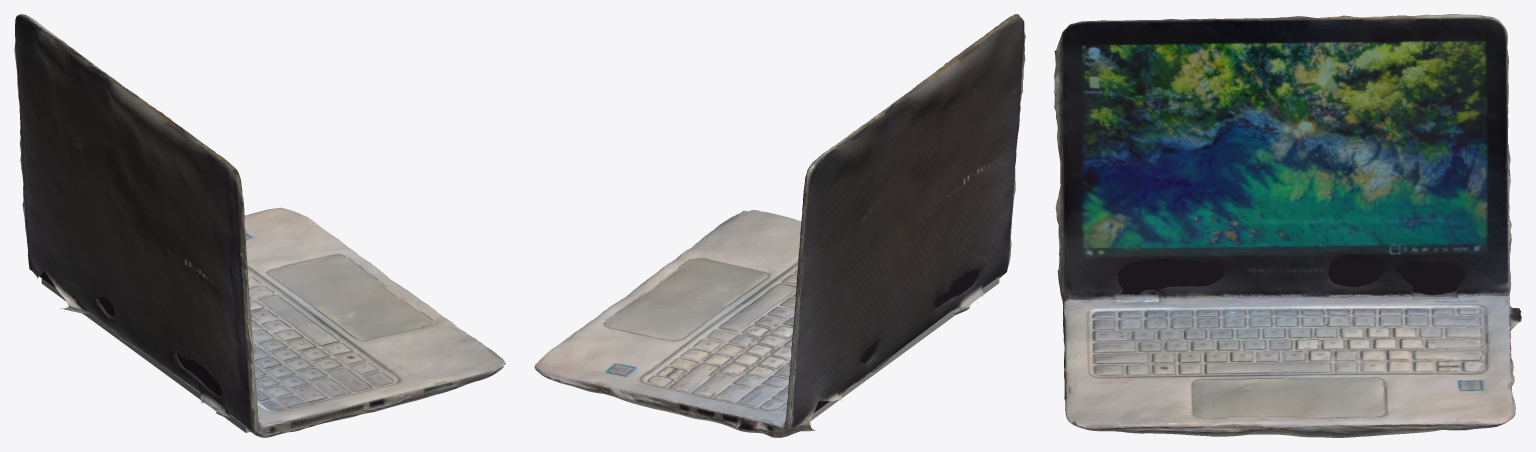
The model's file is laptop.glb.
3 renders of one model, left to right at view 1: azimuth 30°, elevation 25°; view 2: azimuth 150°, elevation 25°; view 3: azimuth 270°, elevation 25°, orthographic.
Parts seen in each view (by area): view 1: object 2, Cube (×2); view 2: object 2, Cube (×2); view 3: object 2, Cube.
Part boxes in pixels (x1=…): object 2: x1=14, y1=14, x2=505, y2=437; Cube (×2): x1=39, y1=272, x2=393, y2=432; object 2: x1=534, y1=14, x2=1025, y2=437; Cube (×2): x1=795, y1=269, x2=999, y2=432; object 2: x1=1054, y1=14, x2=1521, y2=437; Cube: x1=1117, y1=258, x2=1465, y2=294.
Bounding box in the file's own units: 14.83 × 13.76 × 20.25.
Materials: 3 (1 with a texture image).
